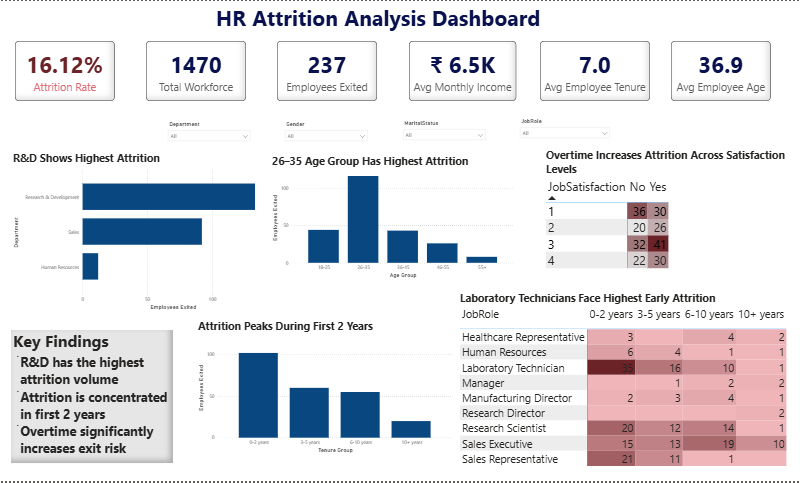

The dashboard page shown, as its layout file describes it:
{"tool":"powerbi","page":{"name":"Page 1","canvas":[2000,1200],"ordinal":0},"visuals":[{"type":"card","fields":{"Values":["Employee_Attrition.Avg Age"]},"box":[1677.8,100,248.9,150],"z":0},{"type":"card","fields":{"Values":["Employee_Attrition.Avg Tenure"]},"box":[1350,100,275,150],"z":1000},{"type":"card","fields":{"Values":["Employee_Attrition.Avg Monthly Income"]},"box":[1022.5,100,267.5,150],"z":2000},{"type":"card","fields":{"Values":["Employee_Attrition.Attrition Employees"]},"box":[693.1,100,250,150],"z":3000},{"type":"card","fields":{"Values":["Employee_Attrition.Total Employees"]},"box":[364.9,100,250,150],"z":4000},{"type":"card","fields":{"Values":["Employee_Attrition.Attrition Rate"]},"box":[37.8,100,248.9,150],"z":5000},{"type":"textbox","box":[535.3,0,831.4,100],"z":6000},{"type":"clusteredBarChart","title":"R&D Shows Highest Attrition","fields":{"Category":["Employee_Attrition.Department"],"Y":["Employee_Attrition.Attrition Employees"]},"box":[26.9,371.6,647.8,404.5],"z":7000},{"type":"clusteredColumnChart","title":"26–35 Age Group Has Highest Attrition","fields":{"Category":["Employee_Attrition.Age Group"],"Y":["Employee_Attrition.Attrition Employees"]},"box":[675,380,615,317.5],"z":8000},{"type":"columnChart","title":"Attrition Peaks During First 2 Years","fields":{"Category":["Employee_Attrition.Tenure Group"],"Y":["Employee_Attrition.Attrition Employees"]},"box":[488.9,793.3,646.7,342.2],"z":9000},{"type":"pivotTable","title":"Overtime Increases Attrition Across Satisfaction Levels","fields":{"Columns":["Employee_Attrition.OverTime"],"Rows":["Employee_Attrition.JobSatisfaction"],"Values":["Employee_Attrition.Attrition Employees"]},"box":[1360,365,632.5,327.5],"z":10000},{"type":"pivotTable","title":"Laboratory Technicians Face Highest Early Attrition","fields":{"Columns":["Employee_Attrition.Tenure Group"],"Rows":["Employee_Attrition.JobRole"],"Values":["Employee_Attrition.Attrition Employees"]},"box":[1144.4,722.2,855.6,477.8],"z":11000},{"type":"slicer","fields":{"Values":["Employee_Attrition.Department"]},"box":[409.3,296.1,226.4,73.6],"z":12000},{"type":"slicer","fields":{"Values":["Employee_Attrition.Gender"]},"box":[702.6,294.1,226.9,73.1],"z":13000},{"type":"slicer","fields":{"Values":["Employee_Attrition.MaritalStatus"]},"box":[996.3,292,226.9,73.1],"z":14000},{"type":"slicer","fields":{"Values":["Employee_Attrition.JobRole"]},"box":[1290,288.1,245,75],"z":15000},{"type":"textbox","title":"Key Findings","box":[27.5,822.5,405,332.5],"z":16000}]}

Visuals, with their boxes in screenshot pixels (x1, y1, x2, y2), scaled from the page's 2000x1200 canvas onto the 800x483 screenshot:
card - Employee_Attrition.Avg Age: detection(671, 40, 771, 101)
card - Employee_Attrition.Avg Tenure: detection(540, 40, 650, 101)
card - Employee_Attrition.Avg Monthly Income: detection(409, 40, 516, 101)
card - Employee_Attrition.Attrition Employees: detection(277, 40, 377, 101)
card - Employee_Attrition.Total Employees: detection(146, 40, 246, 101)
card - Employee_Attrition.Attrition Rate: detection(15, 40, 115, 101)
textbox: detection(214, 0, 547, 40)
"R&D Shows Highest Attrition" clusteredBarChart: detection(11, 150, 270, 312)
"26–35 Age Group Has Highest Attrition" clusteredColumnChart: detection(270, 153, 516, 281)
"Attrition Peaks During First 2 Years" columnChart: detection(196, 319, 454, 457)
"Overtime Increases Attrition Across Satisfaction Levels" pivotTable: detection(544, 147, 797, 279)
"Laboratory Technicians Face Highest Early Attrition" pivotTable: detection(458, 291, 799, 482)
slicer - Employee_Attrition.Department: detection(164, 119, 254, 149)
slicer - Employee_Attrition.Gender: detection(281, 118, 372, 148)
slicer - Employee_Attrition.MaritalStatus: detection(399, 118, 489, 147)
slicer - Employee_Attrition.JobRole: detection(516, 116, 614, 146)
"Key Findings" textbox: detection(11, 331, 173, 465)
